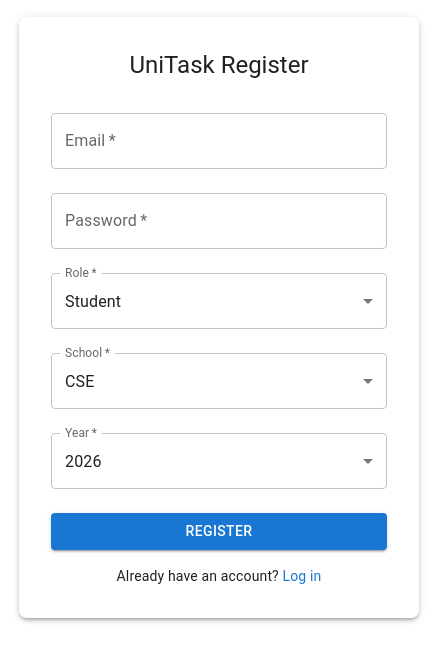
Test: Register Component › should display an error message if registration fails
// Simulate user input and form submission
Type "existing@test.com" into the field labelled "Email *".
click(219, 141); type("existing@test.com")  # box [51,113,387,169]
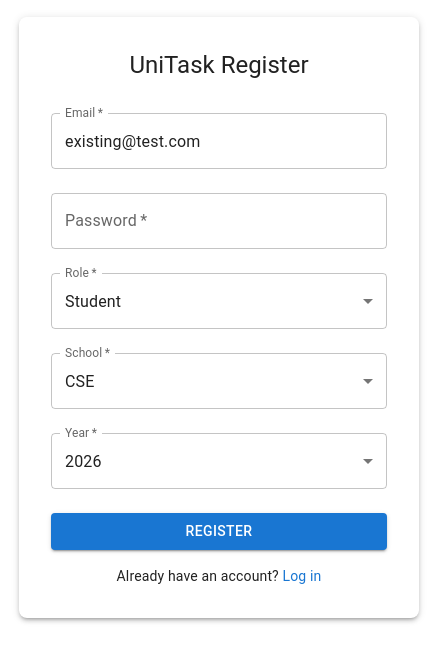
Type "password123" into the password field labelled "Password *".
click(219, 221); type("password123")  # box [51,193,387,249]
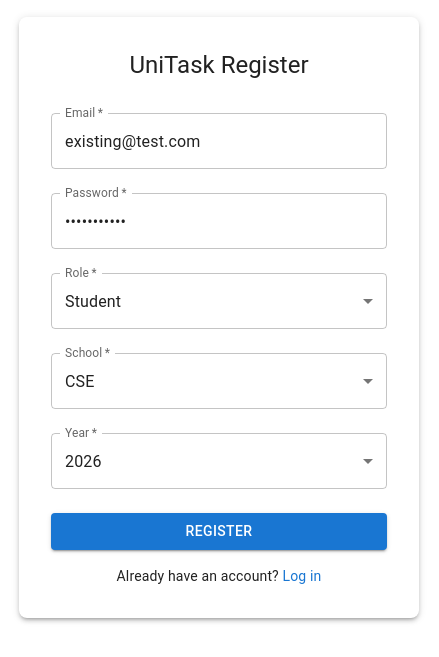
Click the button "Register".
click(219, 531)  # box [51,513,387,550]
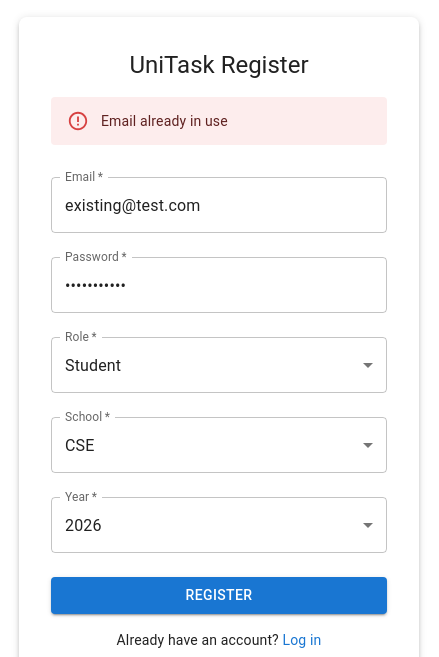
Expected: the text "Email already in use" is shown, [101,113,228,129]
